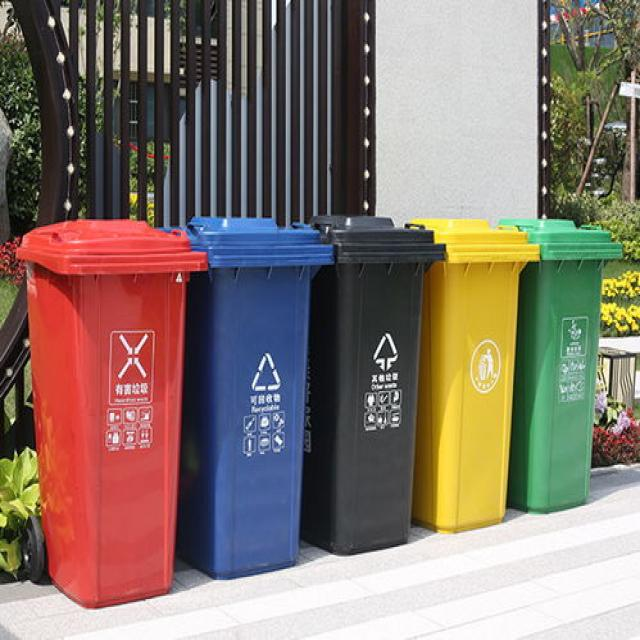garbage_bin: (15, 216, 206, 607), (154, 216, 331, 578), (299, 213, 445, 555), (406, 216, 538, 534), (496, 218, 621, 512)
